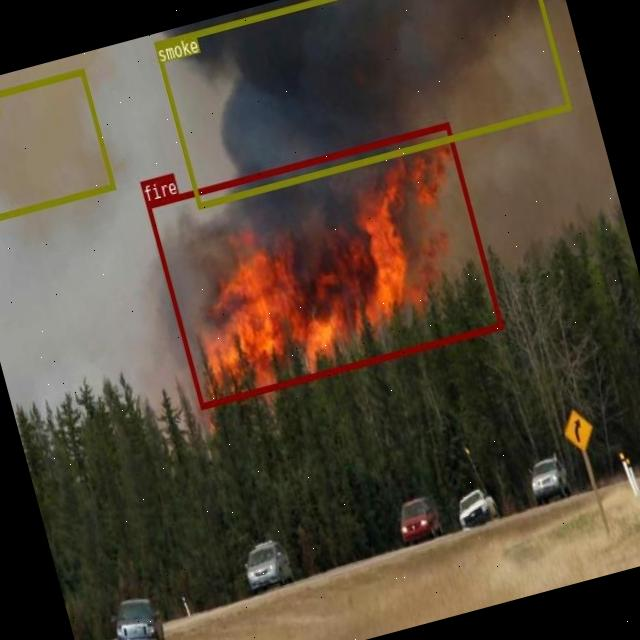fire: (145, 121, 502, 409)
smoke: (153, 0, 571, 208), (0, 67, 115, 222)
